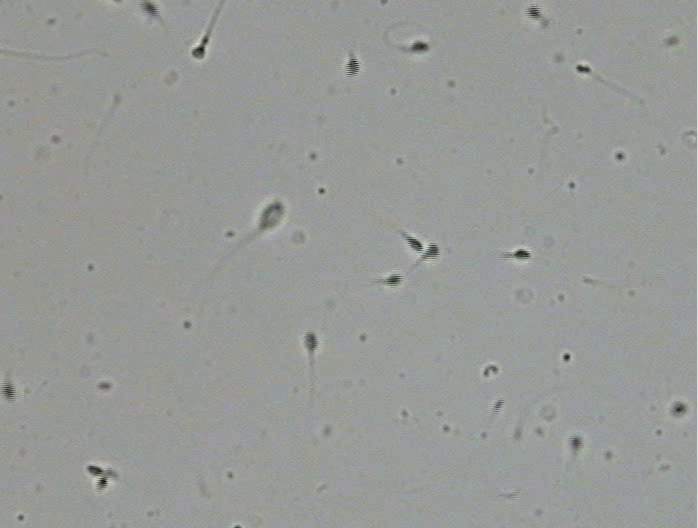S: (259, 202, 283, 228), (1, 381, 16, 402), (406, 236, 424, 253), (345, 57, 360, 77), (303, 332, 318, 351), (423, 243, 440, 259), (140, 1, 158, 16), (525, 5, 542, 19), (410, 41, 429, 53), (511, 249, 531, 260), (384, 274, 402, 286), (569, 436, 583, 450), (95, 476, 108, 491), (87, 465, 104, 476), (192, 45, 205, 59), (672, 403, 686, 416), (575, 64, 591, 74)
